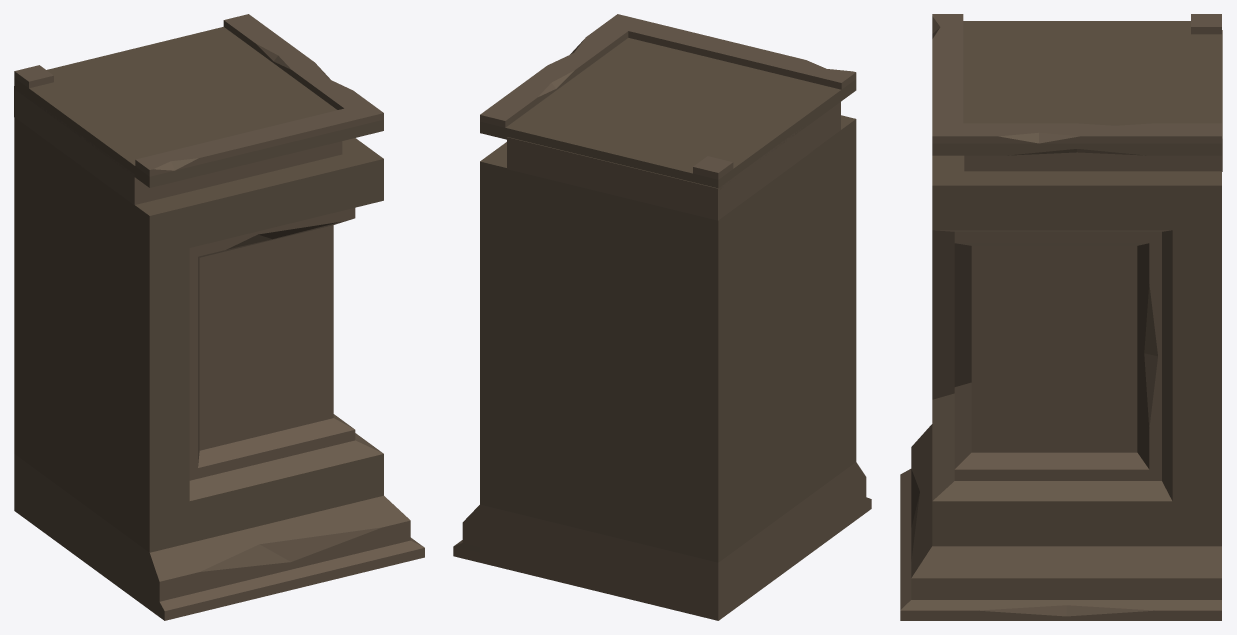
The model's file is SFHW_Reception_Table_003.fbx.
3 renders of one model, left to right at view 1: azimuth 30°, elevation 25°; view 2: azimuth 150°, elevation 25°; view 3: azimuth 270°, elevation 25°, orthographic. The views are drawn at different scales.
Visible parts, largest first — view 1: SFHW_Reception_Table_003; view 2: SFHW_Reception_Table_003; view 3: SFHW_Reception_Table_003.
Part boxes in pixels (x1,y1,x2,y2): SFHW_Reception_Table_003: [14, 14, 424, 620]; SFHW_Reception_Table_003: [453, 14, 871, 620]; SFHW_Reception_Table_003: [900, 14, 1222, 620].
Size of the model in its own units: 66.65 by 108 by 66.83.
